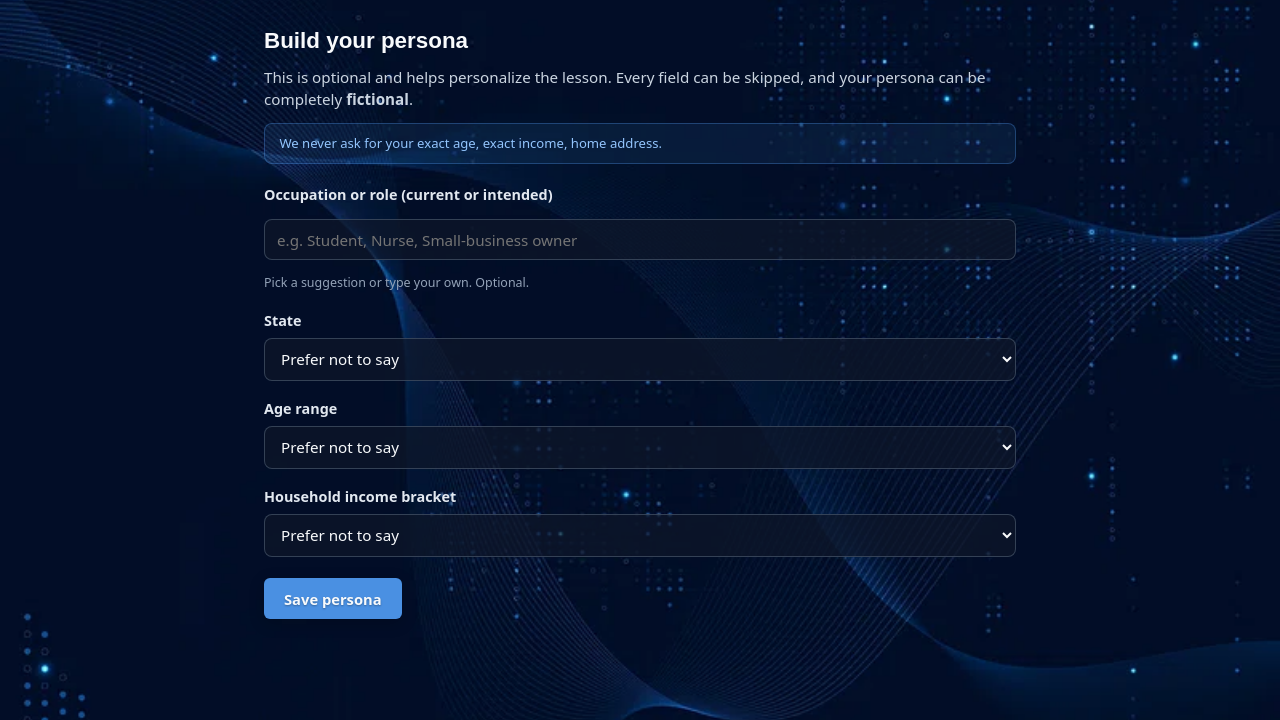
Test: PersonaBuilder › shows an error when saving fails
Click the button with test id "persona-save": (333, 599) [264,578,402,619]
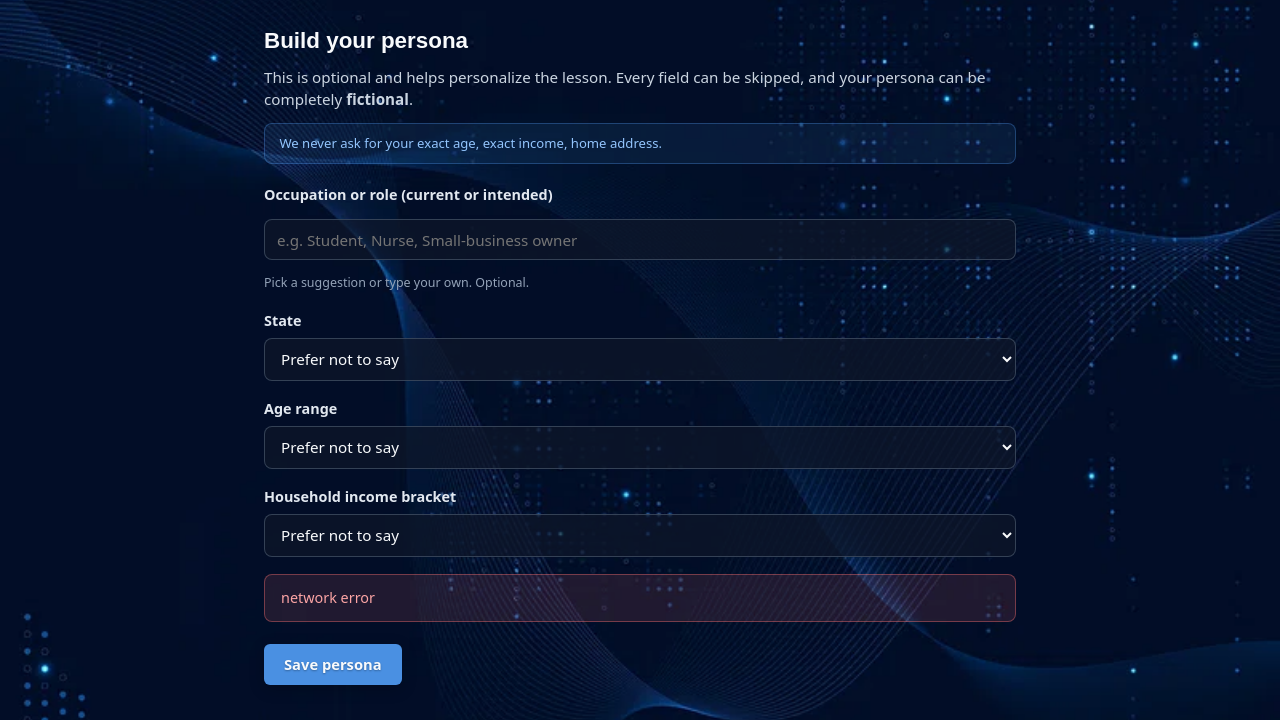
Expected: the text "network error" is shown, [264,574,1016,622]
